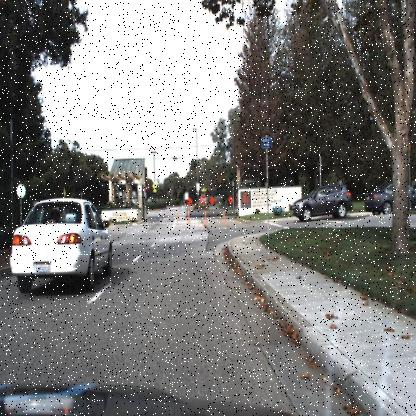car: (7, 197, 113, 294), (290, 182, 353, 223), (364, 178, 416, 220)
